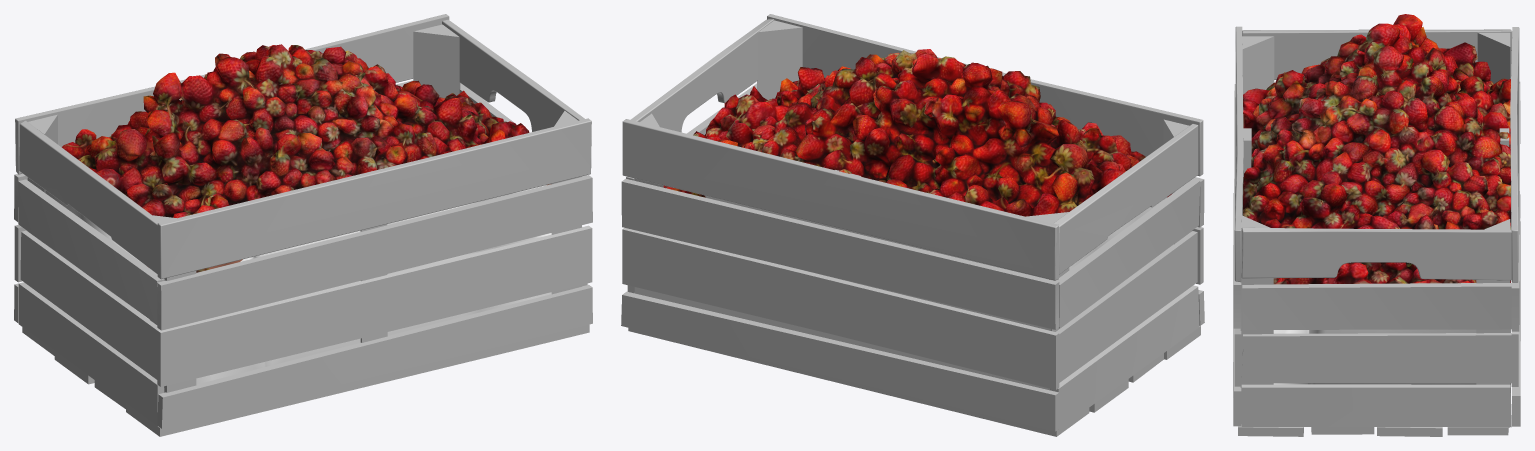
The model's file is caja_1.dae.
3 renders of one model, left to right at view 1: azimuth 30°, elevation 25°; view 2: azimuth 150°, elevation 25°; view 3: azimuth 270°, elevation 25°, orthographic. The views are drawn at different scales.
Parts seen in each view (by area): view 1: Box of strawberries, Strawberry.001; view 2: Box of strawberries, Strawberry.001; view 3: Box of strawberries, Strawberry.001.
Part boxes in pixels (x1,y1,x2,y2): Box of strawberries: (14,14,592,436); Strawberry.001: (45,44,551,384); Box of strawberries: (621,14,1204,436); Strawberry.001: (634,49,1173,390); Box of strawberries: (1233,26,1520,436); Strawberry.001: (1243,14,1510,392).
Bounding box in the file's own units: 0.5016 × 0.2978 × 0.3182.
3 materials, 1 textured.
